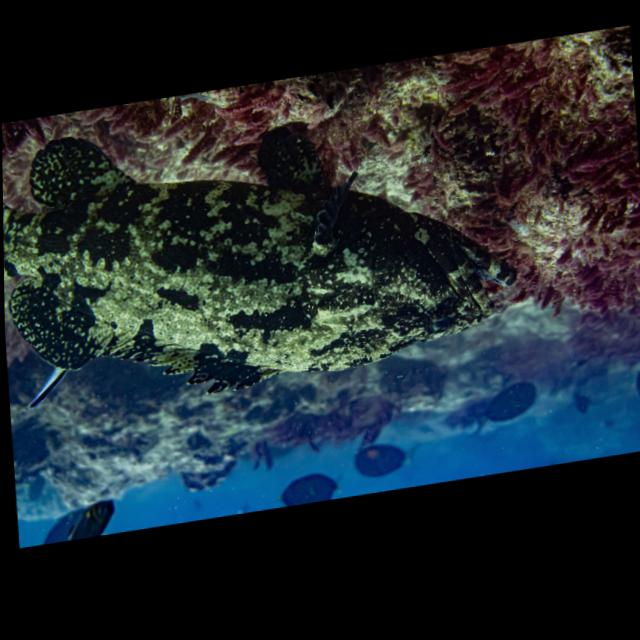Groupers: (2, 70, 521, 428)
